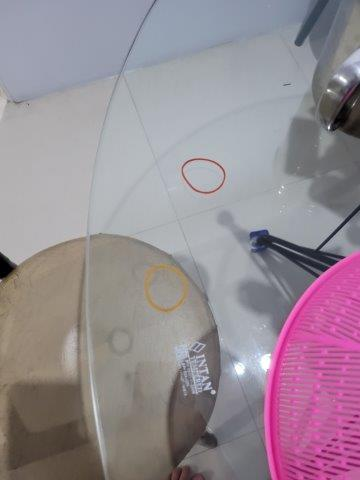karet: (145, 264, 189, 311), (180, 157, 227, 195)
